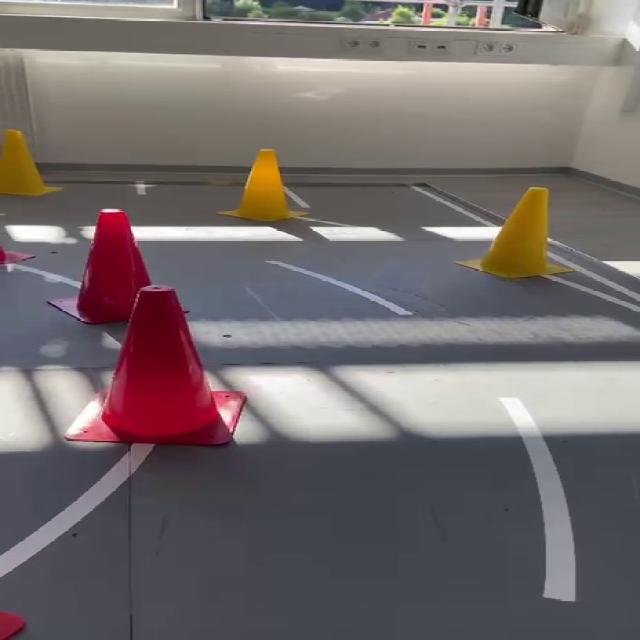Cone-red: (50, 209, 246, 445), (0, 612, 23, 639), (0, 246, 32, 265)
Cones-yellow: (461, 188, 571, 278), (221, 150, 299, 222), (0, 130, 59, 194)
